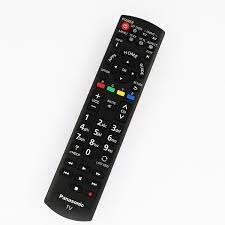remote control: (55, 4, 169, 202)
